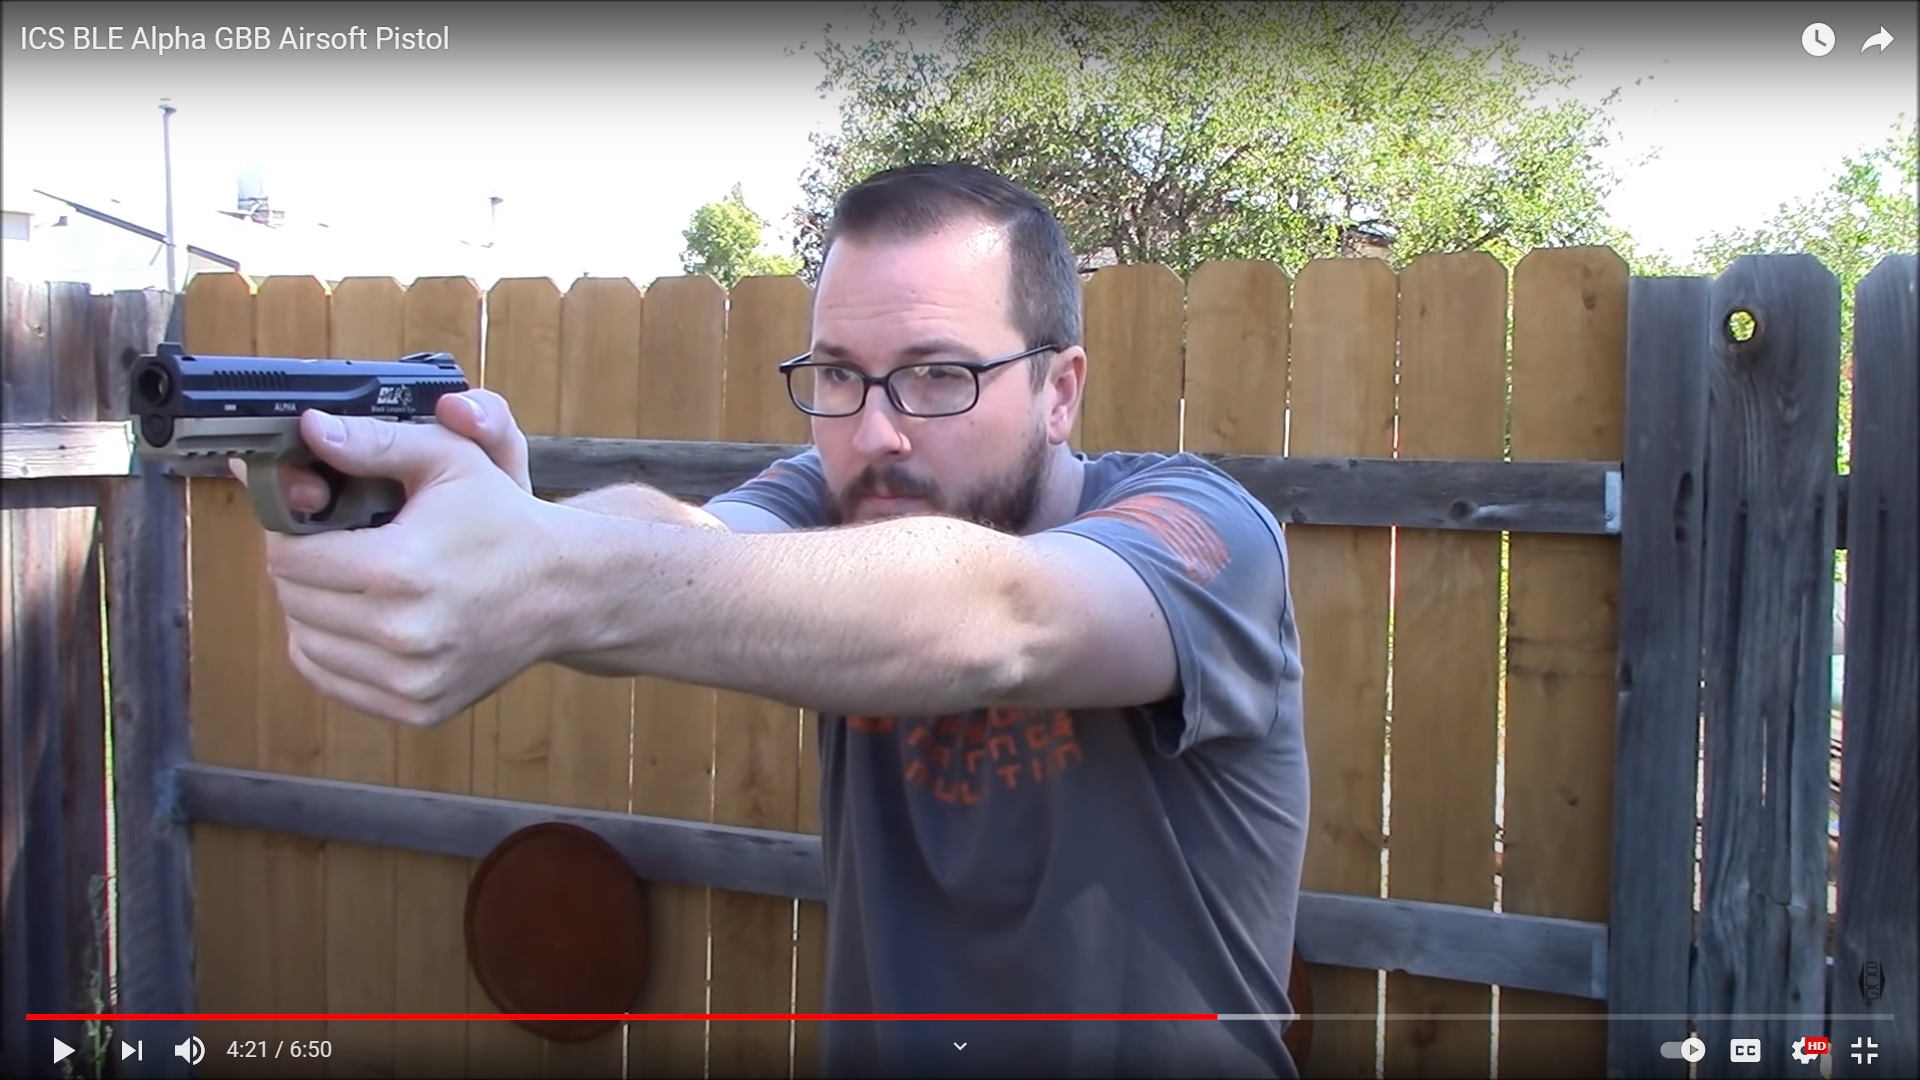asg_ics_ble_xae: (121, 339, 498, 562)
